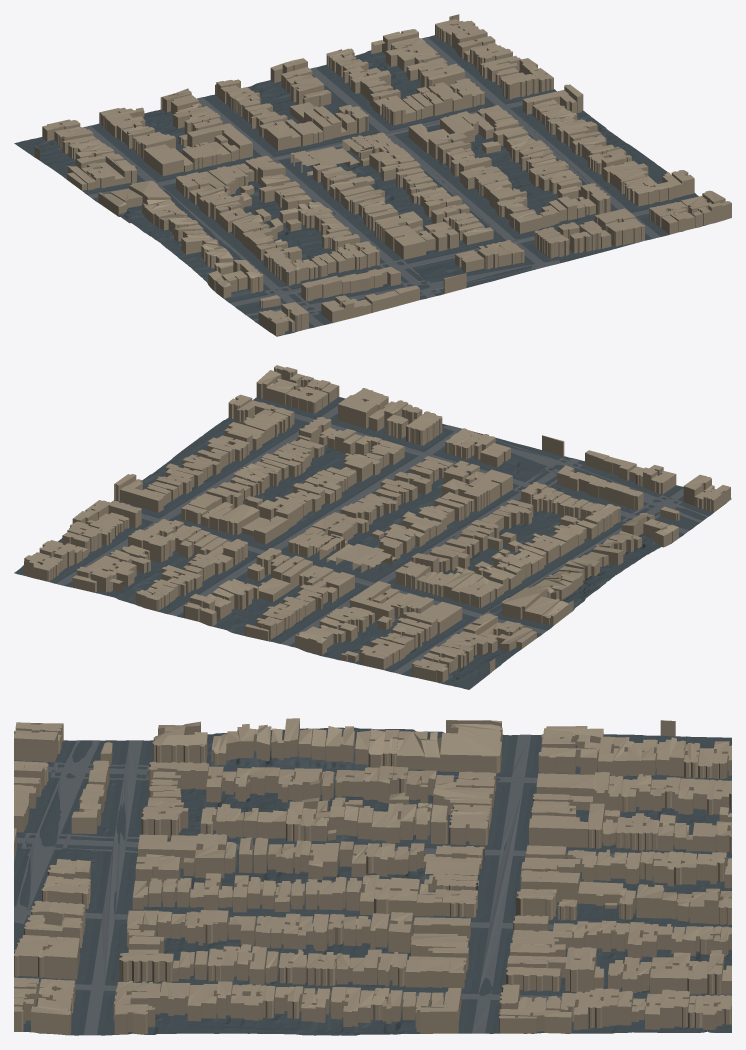
File: epsg26910-1425-10890.lod0.glb
3 views of the same model, one above another, from view 1: azimuth 30°, elevation 25°; view 2: azimuth 150°, elevation 25°; view 3: azimuth 270°, elevation 25° (orthographic). The views are drawn at different scales.
Visible parts, largest first — view 1: epsg26910-1425-10890-lod0; view 2: epsg26910-1425-10890-lod0; view 3: epsg26910-1425-10890-lod0.
Boxes of the visible parts, left/top/right/bottom form: epsg26910-1425-10890-lod0: left=14, top=14, right=731, bottom=336; epsg26910-1425-10890-lod0: left=14, top=365, right=731, bottom=689; epsg26910-1425-10890-lod0: left=14, top=718, right=731, bottom=1035.
Bounding box in the file's own units: 384 × 19.64 × 384.
